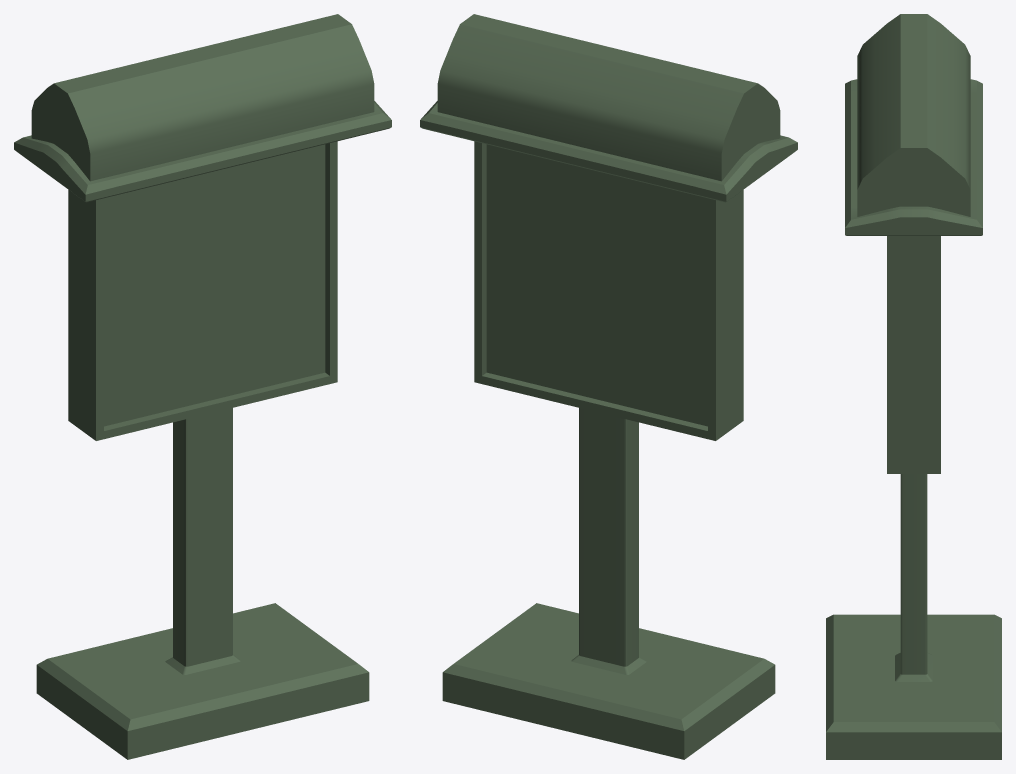
Rendered from model_Plate_low.fbx.
3 renders of one model, left to right at view 1: azimuth 30°, elevation 25°; view 2: azimuth 150°, elevation 25°; view 3: azimuth 270°, elevation 25°, orthographic. The views are drawn at different scales.
Parts seen in each view (by area): view 1: plate_high; view 2: plate_high; view 3: plate_high.
Part boxes in pixels (left/top/right/bottom): plate_high: left=14, top=14, right=391, bottom=759; plate_high: left=420, top=14, right=797, bottom=759; plate_high: left=826, top=14, right=1001, bottom=759.
Bounding box in the file's own units: 63.4 × 127 × 32.6.
